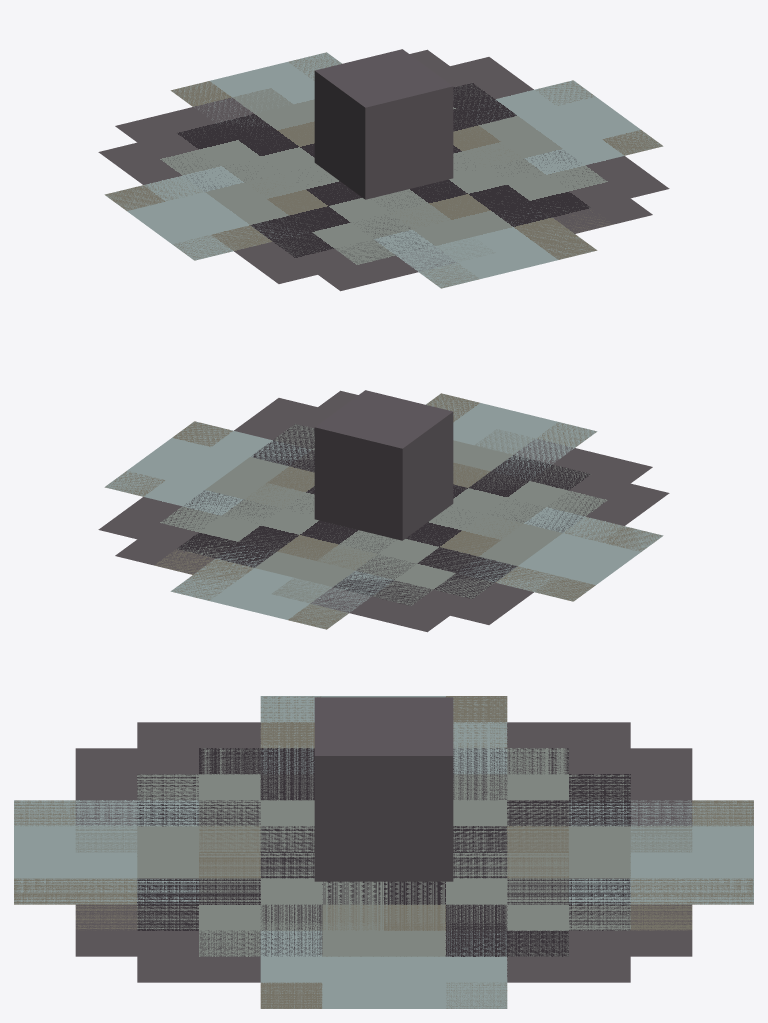
The model's file is m1_ceiling_fan_rotor.obj.
3 views of the same model, one above another, from view 1: azimuth 30°, elevation 25°; view 2: azimuth 150°, elevation 25°; view 3: azimuth 270°, elevation 25° (orthographic). The views are drawn at different scales.
Parts seen in each view (by area): view 1: part_1d5a774ae96104fe373a5c5c7fd31048, part_c6ba4704fd34aec58c1e862e11fa429a; view 2: part_1d5a774ae96104fe373a5c5c7fd31048, part_c6ba4704fd34aec58c1e862e11fa429a; view 3: part_1d5a774ae96104fe373a5c5c7fd31048, part_c6ba4704fd34aec58c1e862e11fa429a.
Boxes of the visible parts, box(x1,y1,x2,y2) form: part_1d5a774ae96104fe373a5c5c7fd31048: box(98, 49, 669, 291); part_c6ba4704fd34aec58c1e862e11fa429a: box(314, 49, 453, 199); part_1d5a774ae96104fe373a5c5c7fd31048: box(98, 390, 669, 632); part_c6ba4704fd34aec58c1e862e11fa429a: box(314, 390, 453, 540); part_1d5a774ae96104fe373a5c5c7fd31048: box(14, 696, 753, 1008); part_c6ba4704fd34aec58c1e862e11fa429a: box(314, 697, 453, 881).
Bounding box in the file's own units: 0.5625 × 0.123 × 0.5625.
